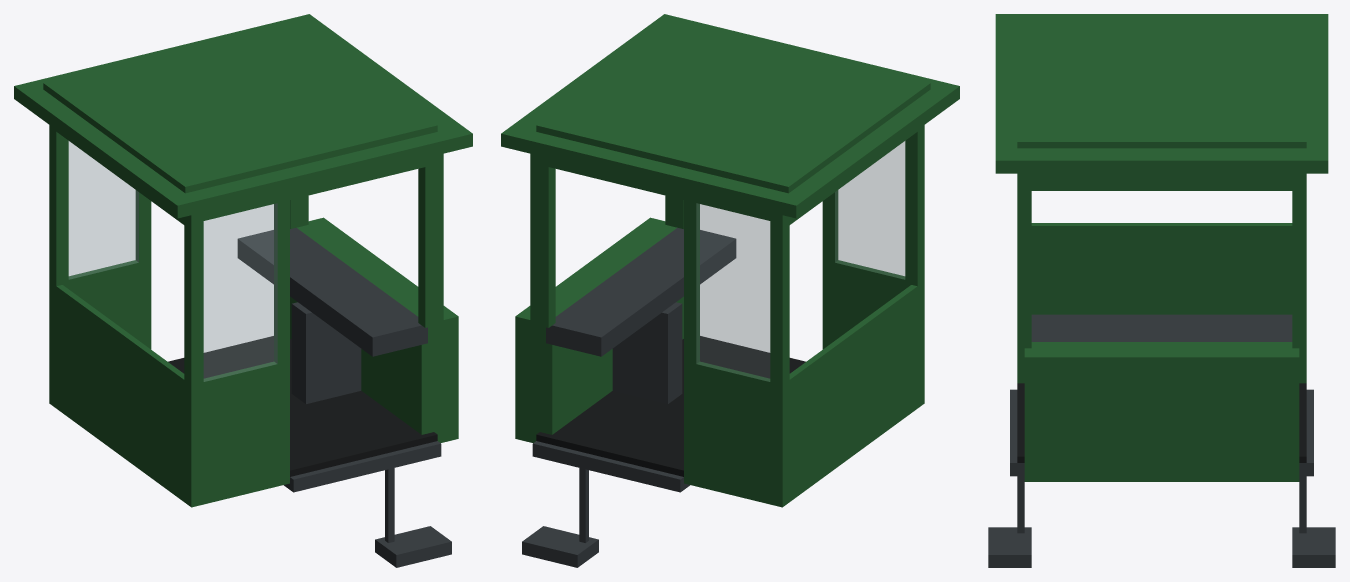
The model's file is tractor_cab.glb.
3 views of the same model, side by side, from view 1: azimuth 30°, elevation 25°; view 2: azimuth 150°, elevation 25°; view 3: azimuth 270°, elevation 25° (orthographic).
Visible parts, largest first — view 1: body:compound; view 2: body:compound; view 3: body:compound.
Boxes of the visible parts, x1,y1,x2,y2 form: body:compound: (14, 14, 472, 567); body:compound: (501, 14, 959, 567); body:compound: (988, 14, 1335, 567).
Size of the model in its own units: 1.5 by 2.03 by 1.5.
